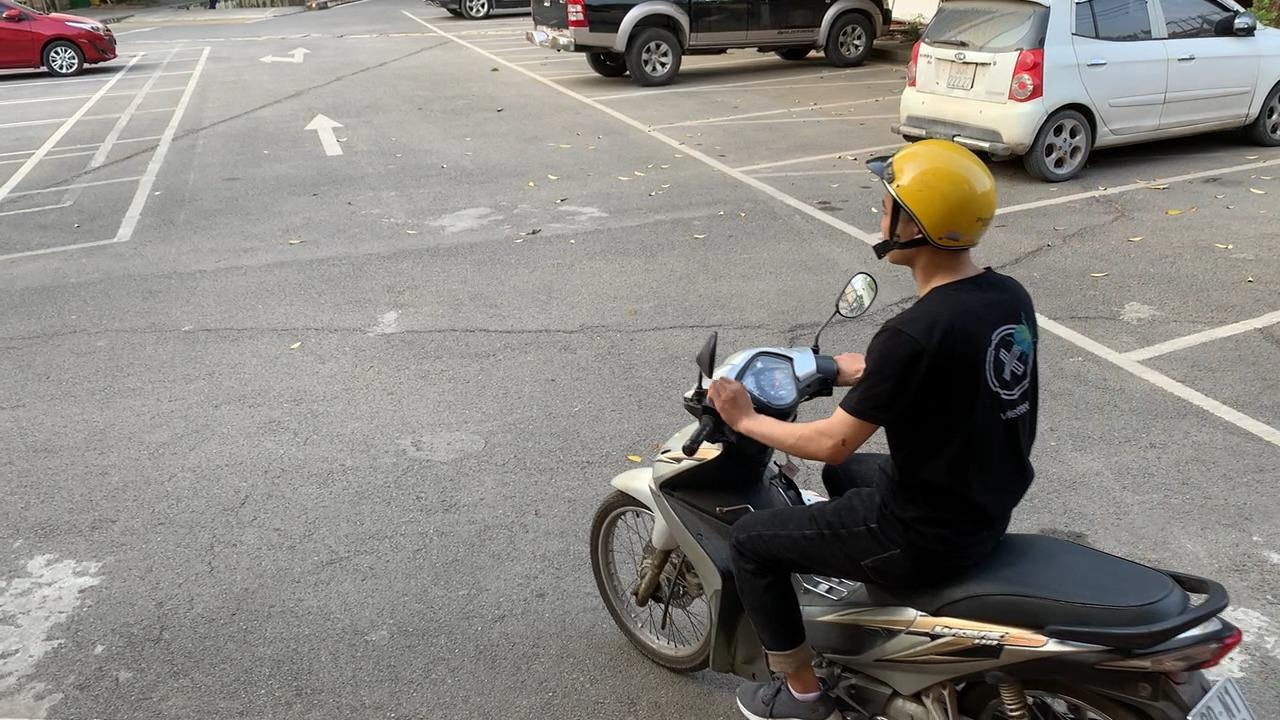helmet: (866, 137, 1001, 255)
motorcyclist: (591, 138, 1256, 720)
